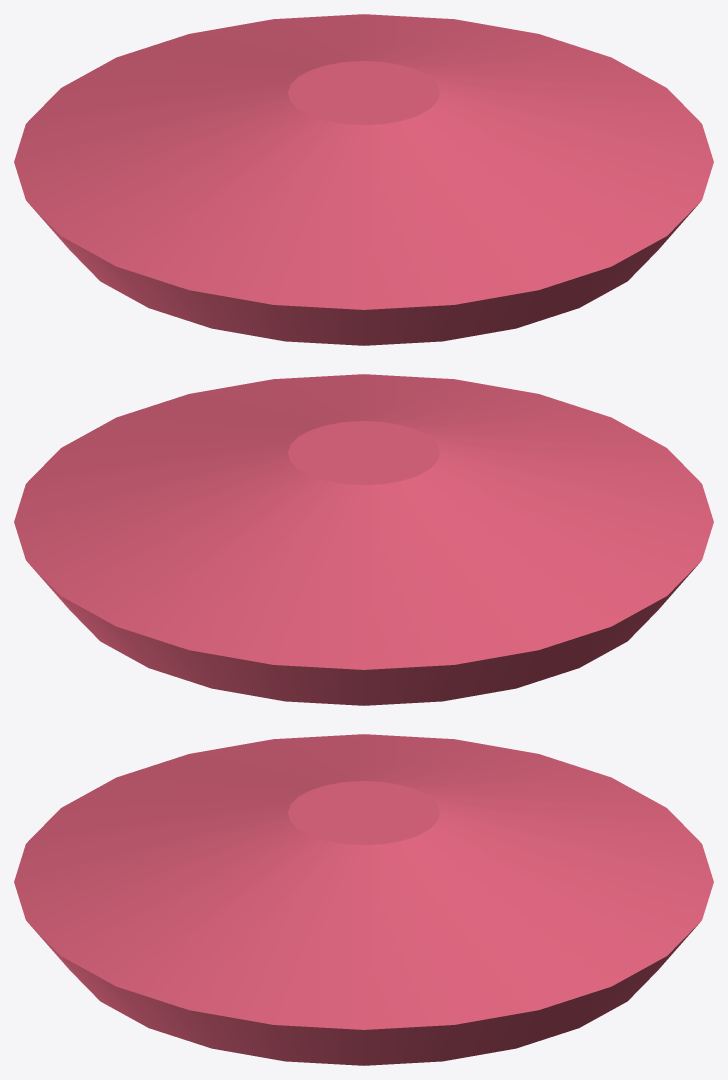
The model's file is beret.glb.
The picture shows the model from 3 angles, top to bottom: view 1: azimuth 30°, elevation 25°; view 2: azimuth 150°, elevation 25°; view 3: azimuth 270°, elevation 25°; orthographic projection.
Visible parts, largest first — view 1: beret; view 2: beret; view 3: beret.
Part boxes in pixels (x1,y1,x2,y2): beret: (14,14,713,345); beret: (14,374,713,705); beret: (14,734,713,1065).
Bounding box in the file's own units: 0.92 × 0.18 × 0.92.
